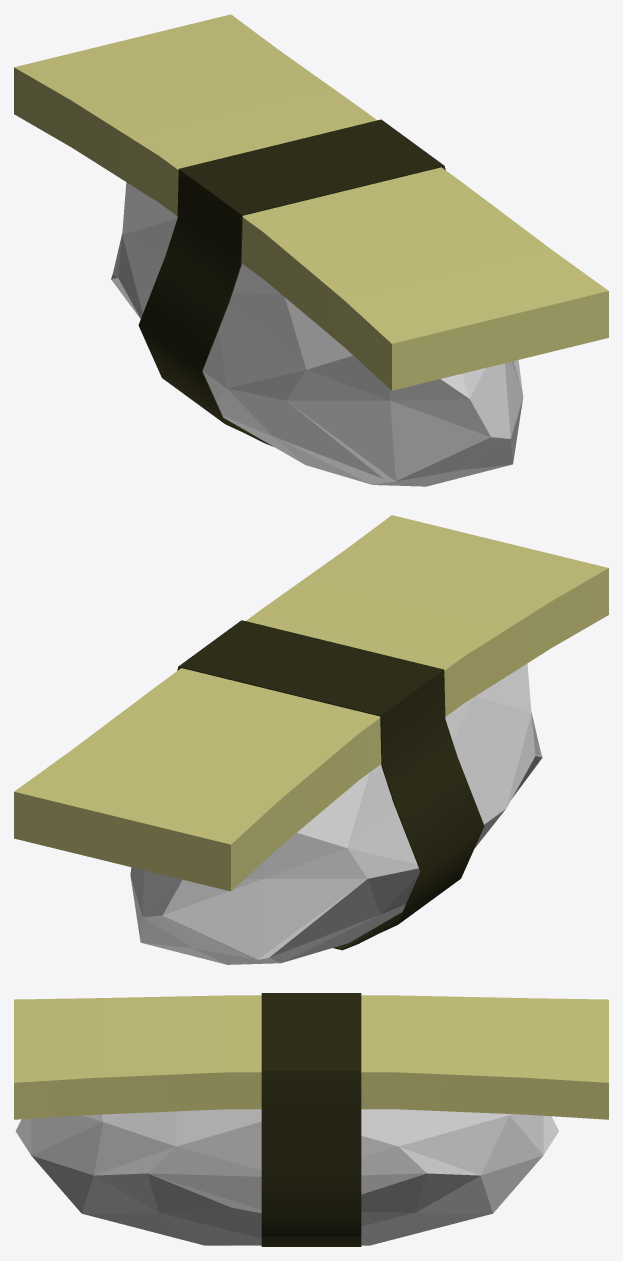
Rendered from egg.fbx.
3 renders of one model, top to bottom at view 1: azimuth 30°, elevation 25°; view 2: azimuth 150°, elevation 25°; view 3: azimuth 270°, elevation 25°, orthographic. The views are drawn at different scales.
Parts seen in each view (by area): view 1: Egg, Rice, SeaWeed; view 2: Egg, Rice, SeaWeed; view 3: Egg, Rice, SeaWeed.
Part boxes in pixels (left/top/right/bottom): Egg: left=14, top=14, right=608, bottom=390; Rice: left=111, top=182, right=523, bottom=486; SeaWeed: left=138, top=119, right=445, bottom=446; Egg: left=14, top=515, right=608, bottom=891; Rice: left=130, top=663, right=542, bottom=964; SeaWeed: left=177, top=620, right=484, bottom=950; Egg: left=14, top=995, right=608, bottom=1119; Rice: left=15, top=1109, right=558, bottom=1245; SeaWeed: left=261, top=993, right=361, bottom=1246.
Bounding box in the file's own units: 2.15 × 1.93 × 5.41.
